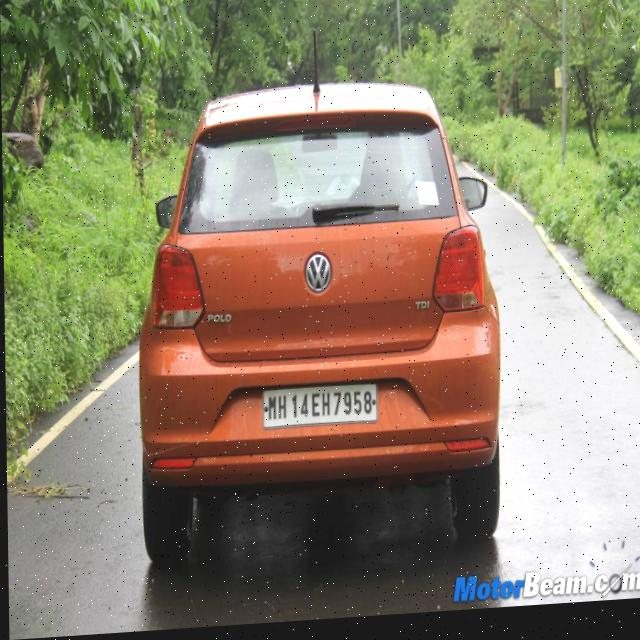plate: (262, 386, 376, 433)
